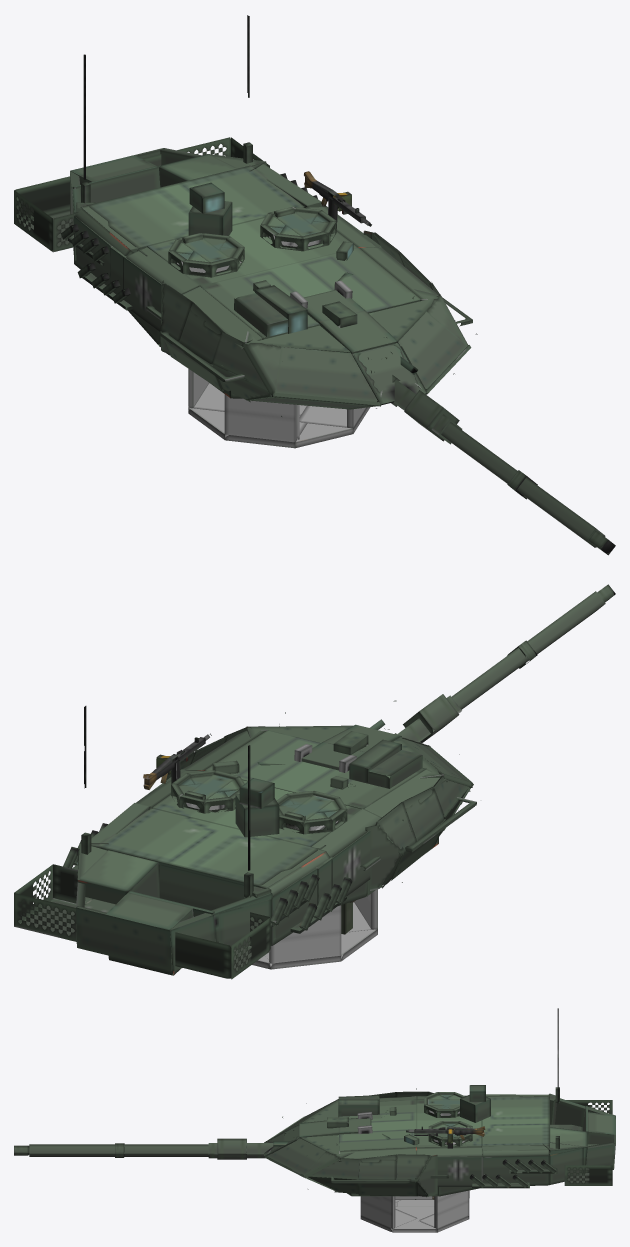
The model's file is leo2a6_turret.obj.
3 renders of one model, top to bottom at view 1: azimuth 30°, elevation 25°; view 2: azimuth 150°, elevation 25°; view 3: azimuth 270°, elevation 25°, orthographic. The views are drawn at different scales.
Visible parts, largest first — view 1: turret, gun; view 2: turret, gun; view 3: turret, gun.
Part boxes in pixels (x1,y1,x2,y2): turret: (14,15,477,448); gun: (352,343,615,555); turret: (14,700,476,979); gun: (286,584,615,830); turret: (264,1008,615,1232); gun: (14,1124,446,1159).
Bounding box in the file's own units: 3.82 × 4.25 × 13.03.
